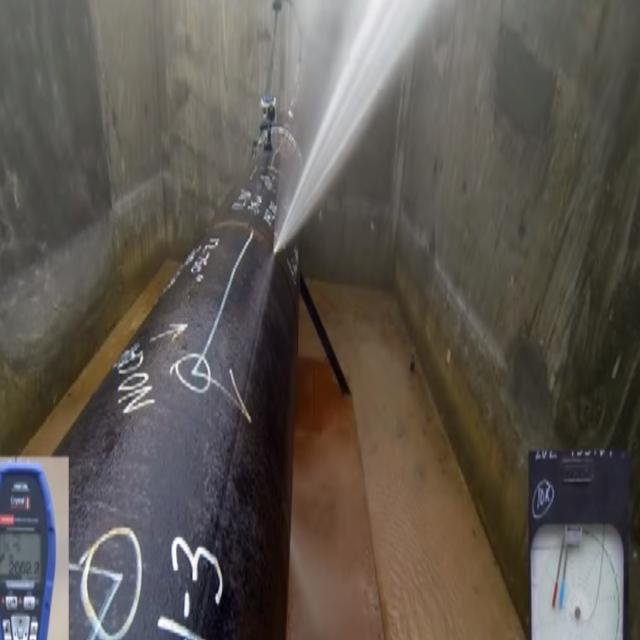leak: (269, 0, 458, 257)
